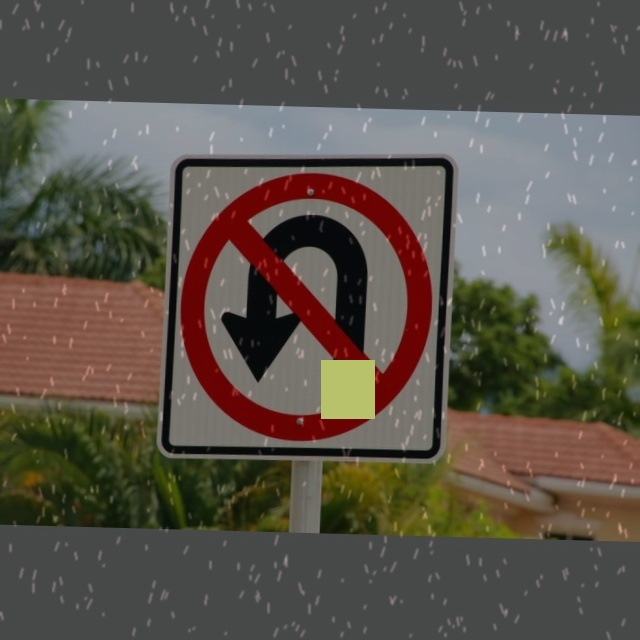U_Turn_Prohibited: (177, 162, 444, 449)
